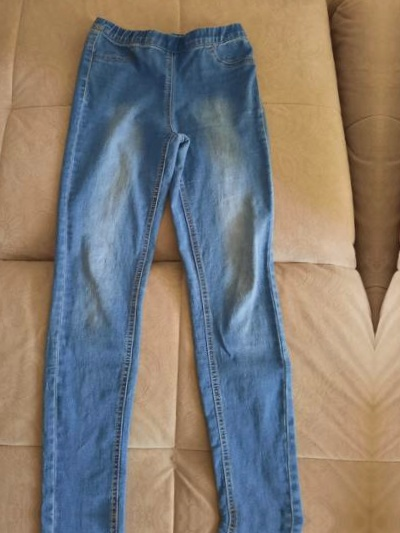Pants: (15, 1, 327, 520), (2, 515, 314, 533)
